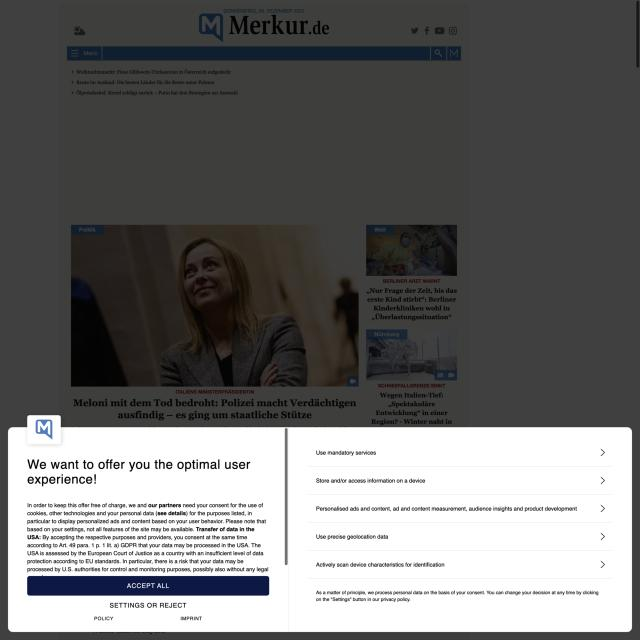logo: (28, 415, 61, 443)
